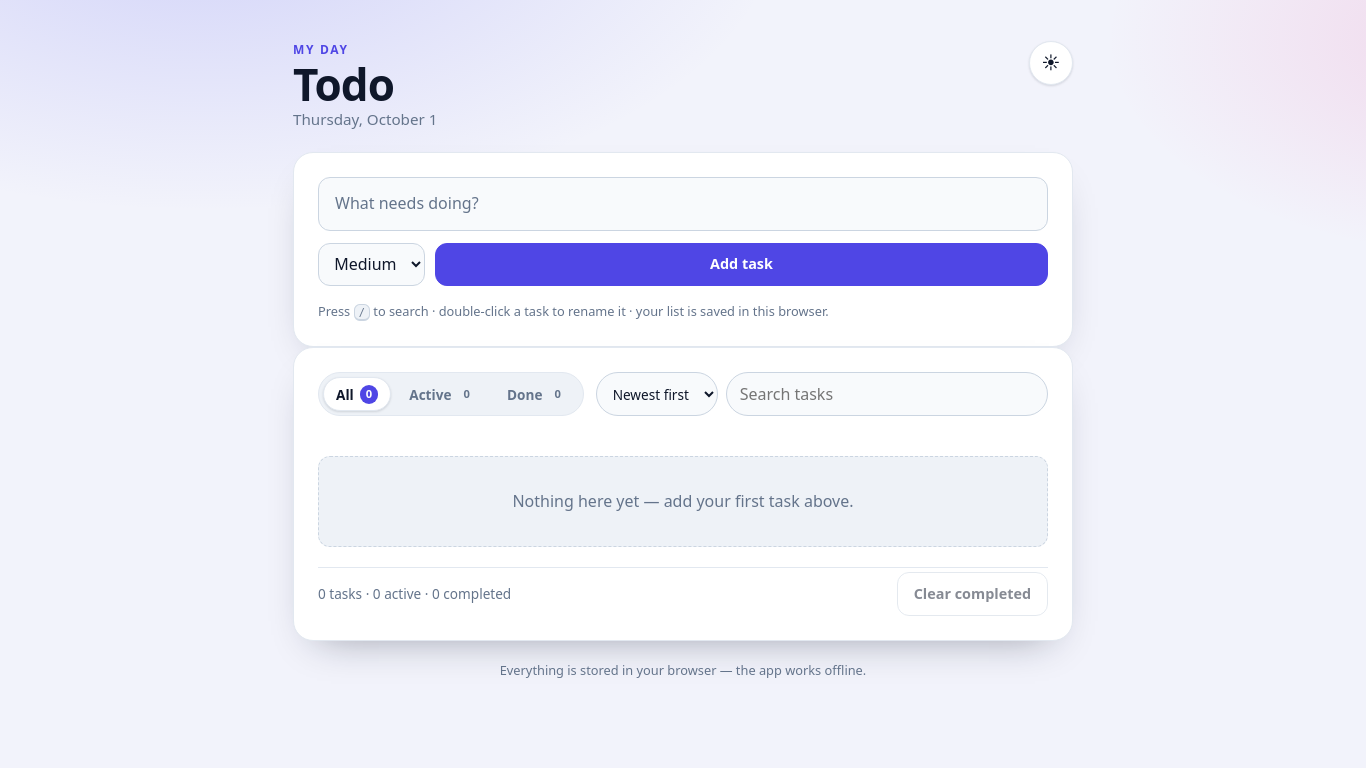
Test: Todo app › keeps the empty state and the filter chips in sync
Expected: the text with id "empty-state" reads "Nothing here yet — add your first task above.", [512, 490, 854, 512]
Type "only one" into the field named "Task description". click: (683, 204)
box: [318, 176, 1048, 230]
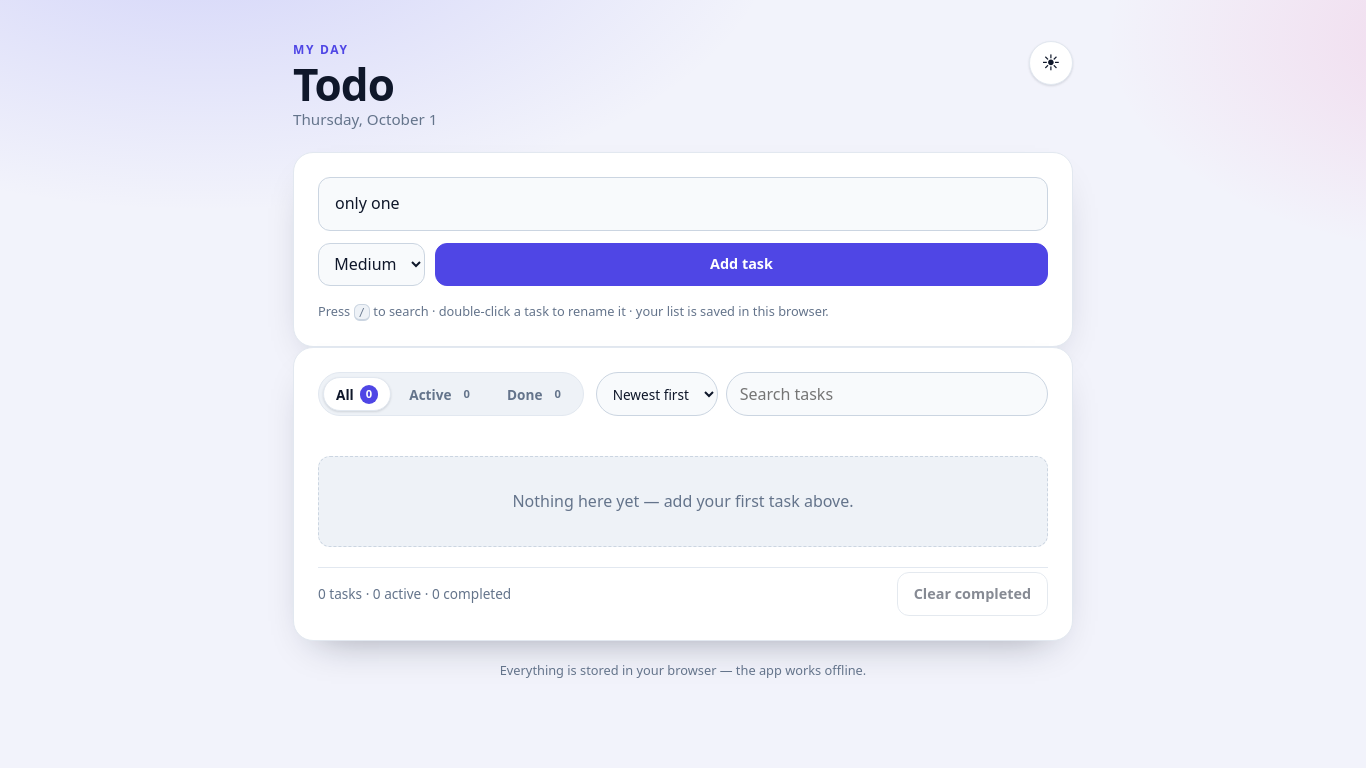
Click the button "Add task". click: click(742, 264)
box: [435, 242, 1048, 286]
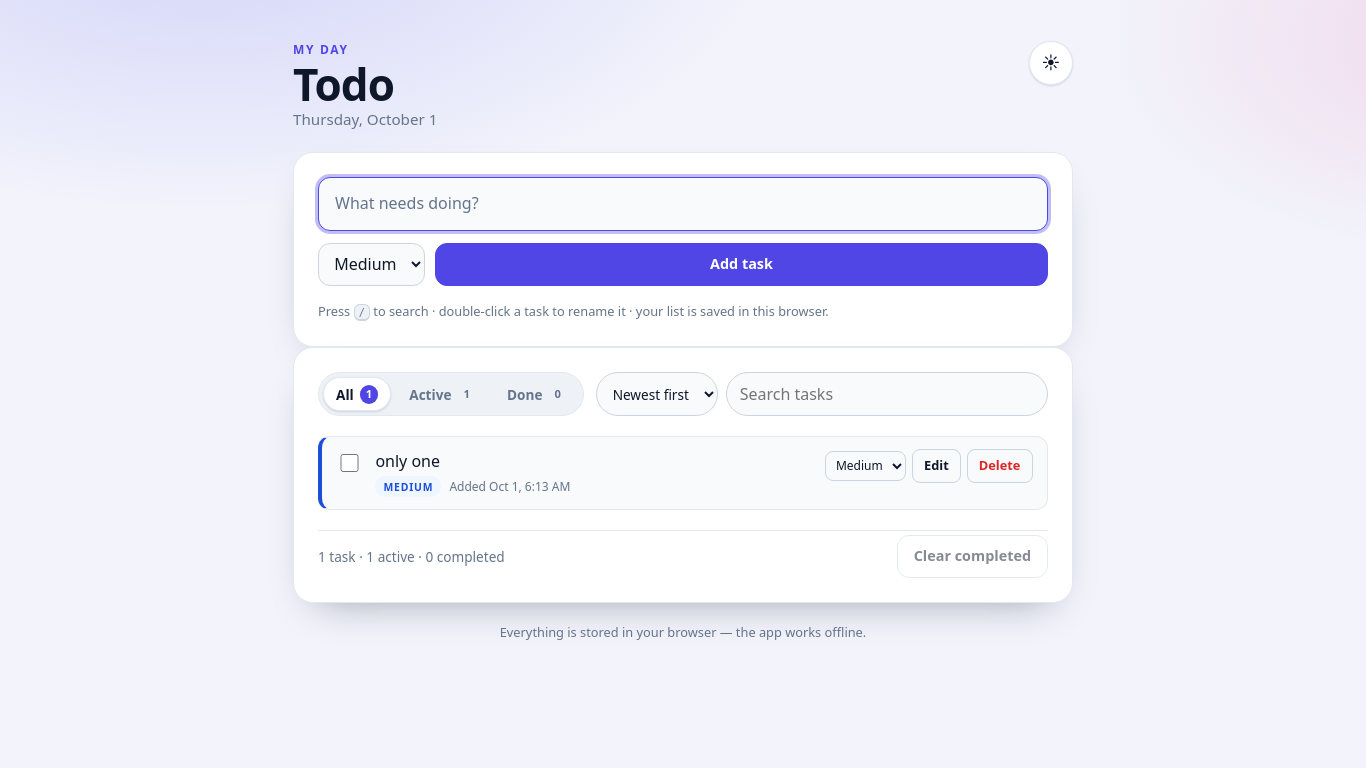
Click the button named "Delete \"only one\"". click: click(1000, 466)
box: [967, 448, 1033, 483]
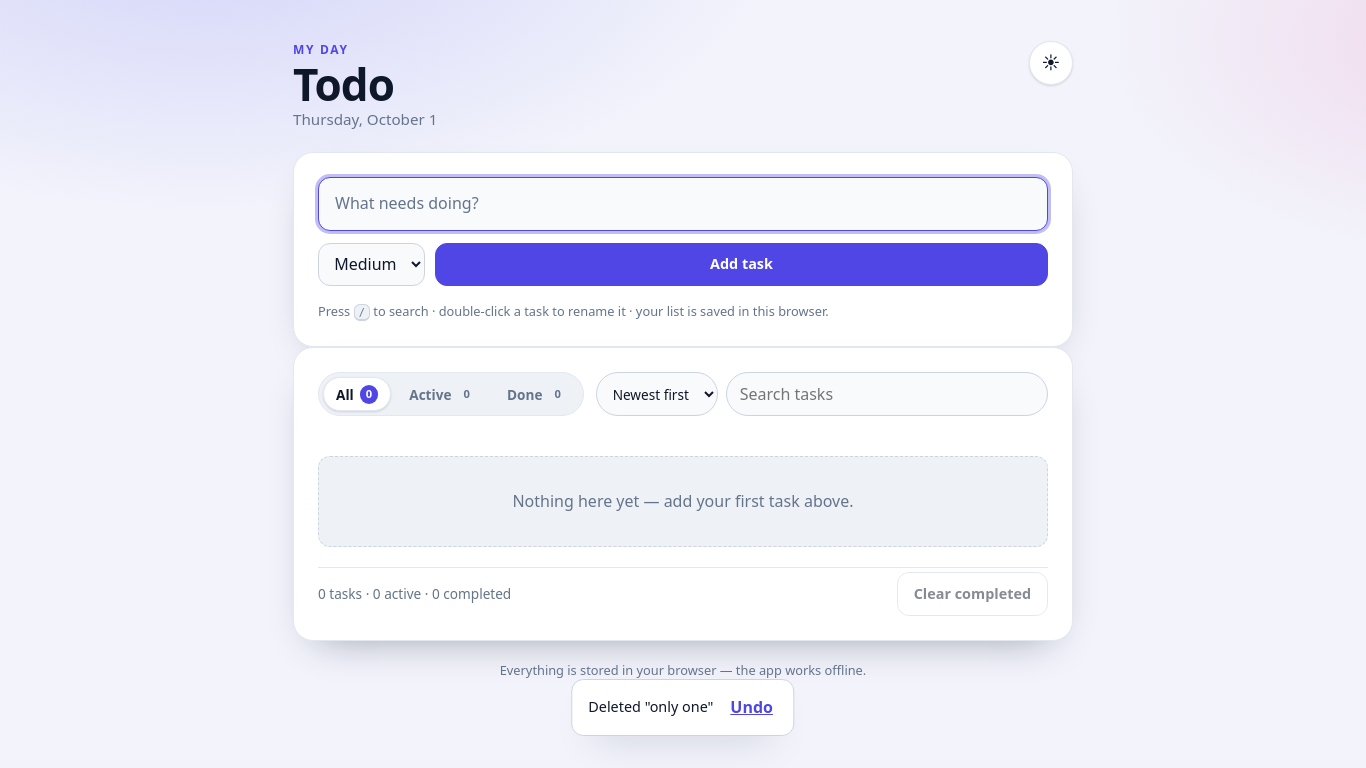
Click the button "Done 0". click: click(537, 394)
box: [494, 377, 579, 411]
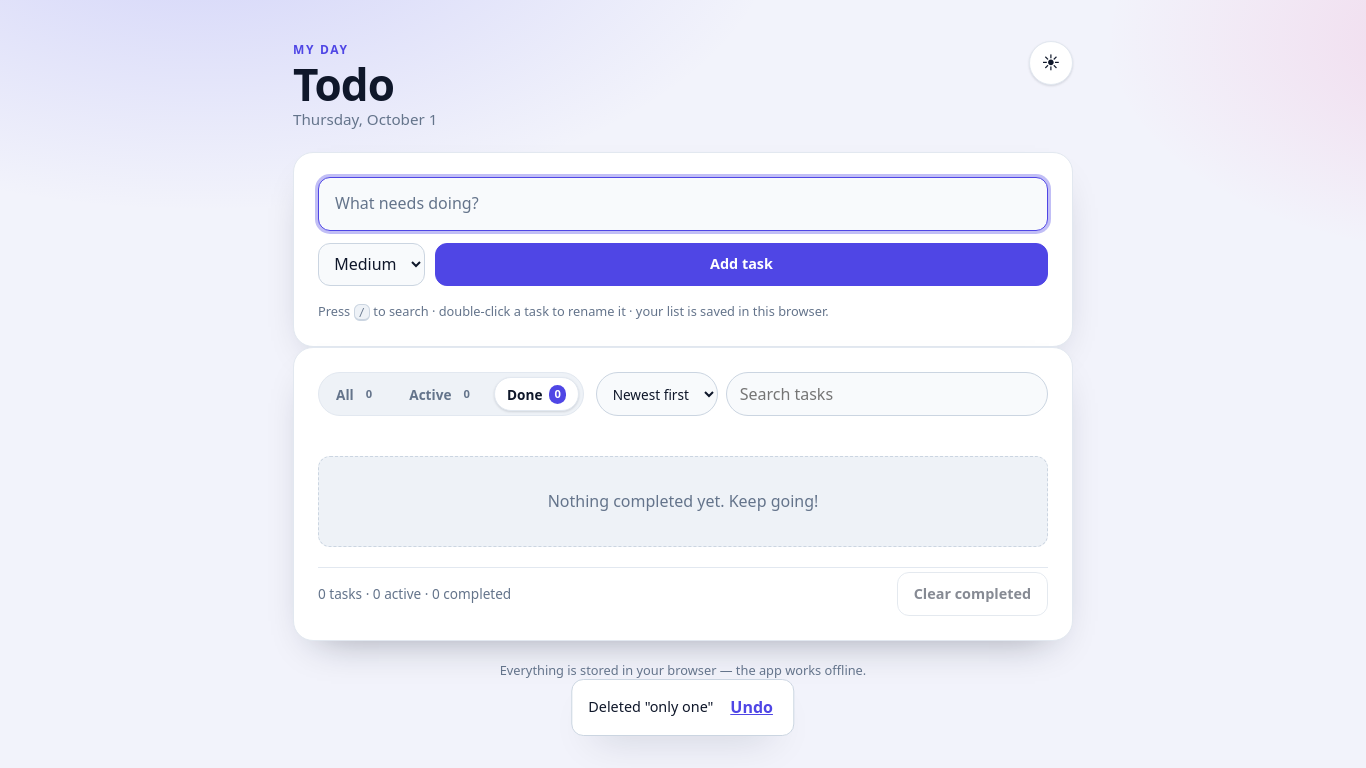
Now the text with id "empty-state" shows "Nothing completed yet.", box [548, 490, 818, 512]
